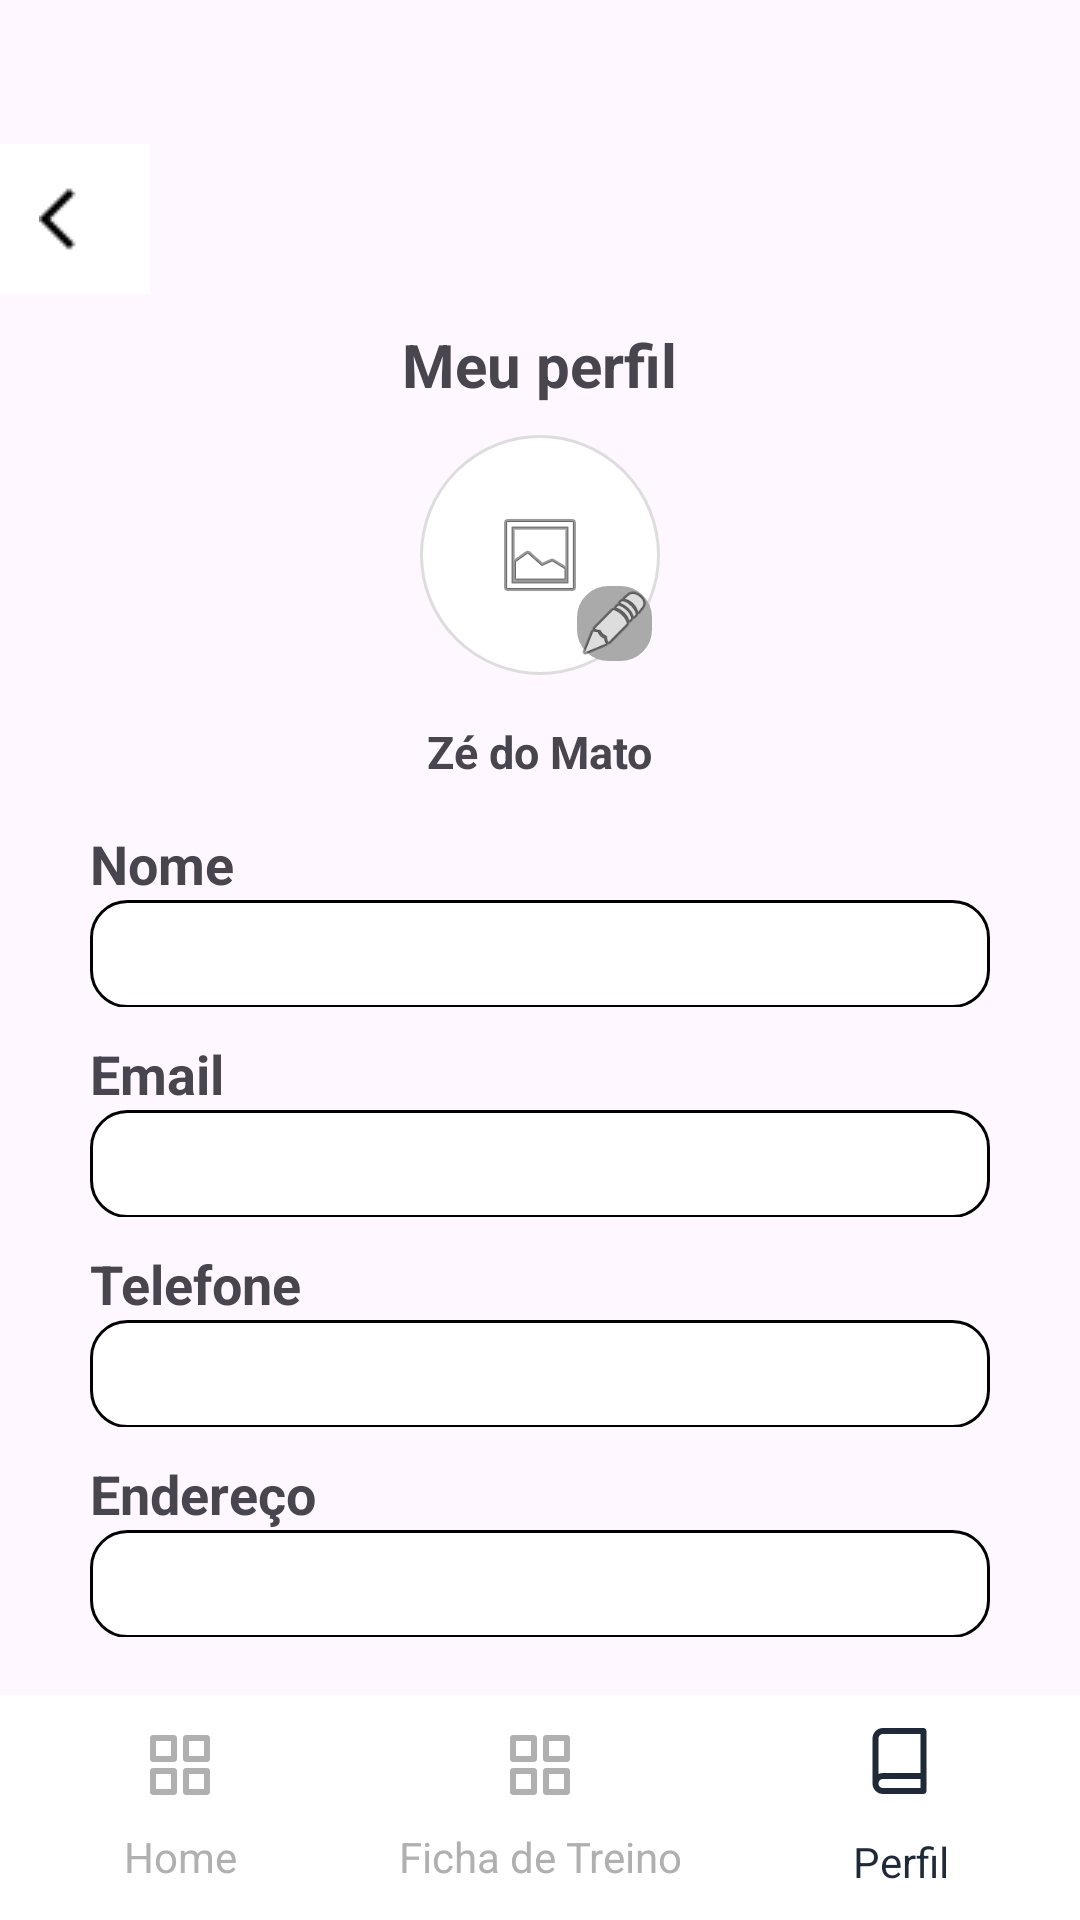

Icons on this 1080×1920 Android screen, each with the point to tap as (x=x, y=y):
"Seta": (x=57, y=219)
